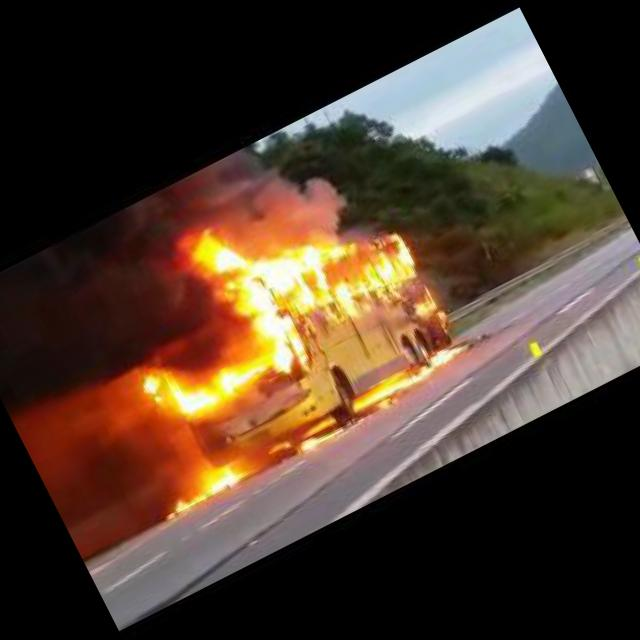fire: (186, 152, 436, 388), (138, 334, 262, 438), (351, 337, 472, 409), (147, 454, 254, 526), (406, 284, 450, 335), (294, 420, 346, 455), (300, 412, 338, 438), (265, 438, 291, 457)
smoke: (83, 184, 250, 383), (200, 114, 366, 274)
